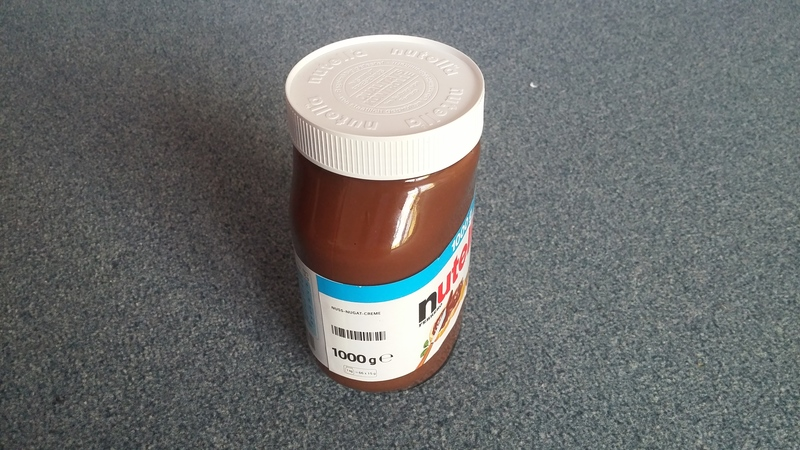nutella: (284, 33, 486, 391)
